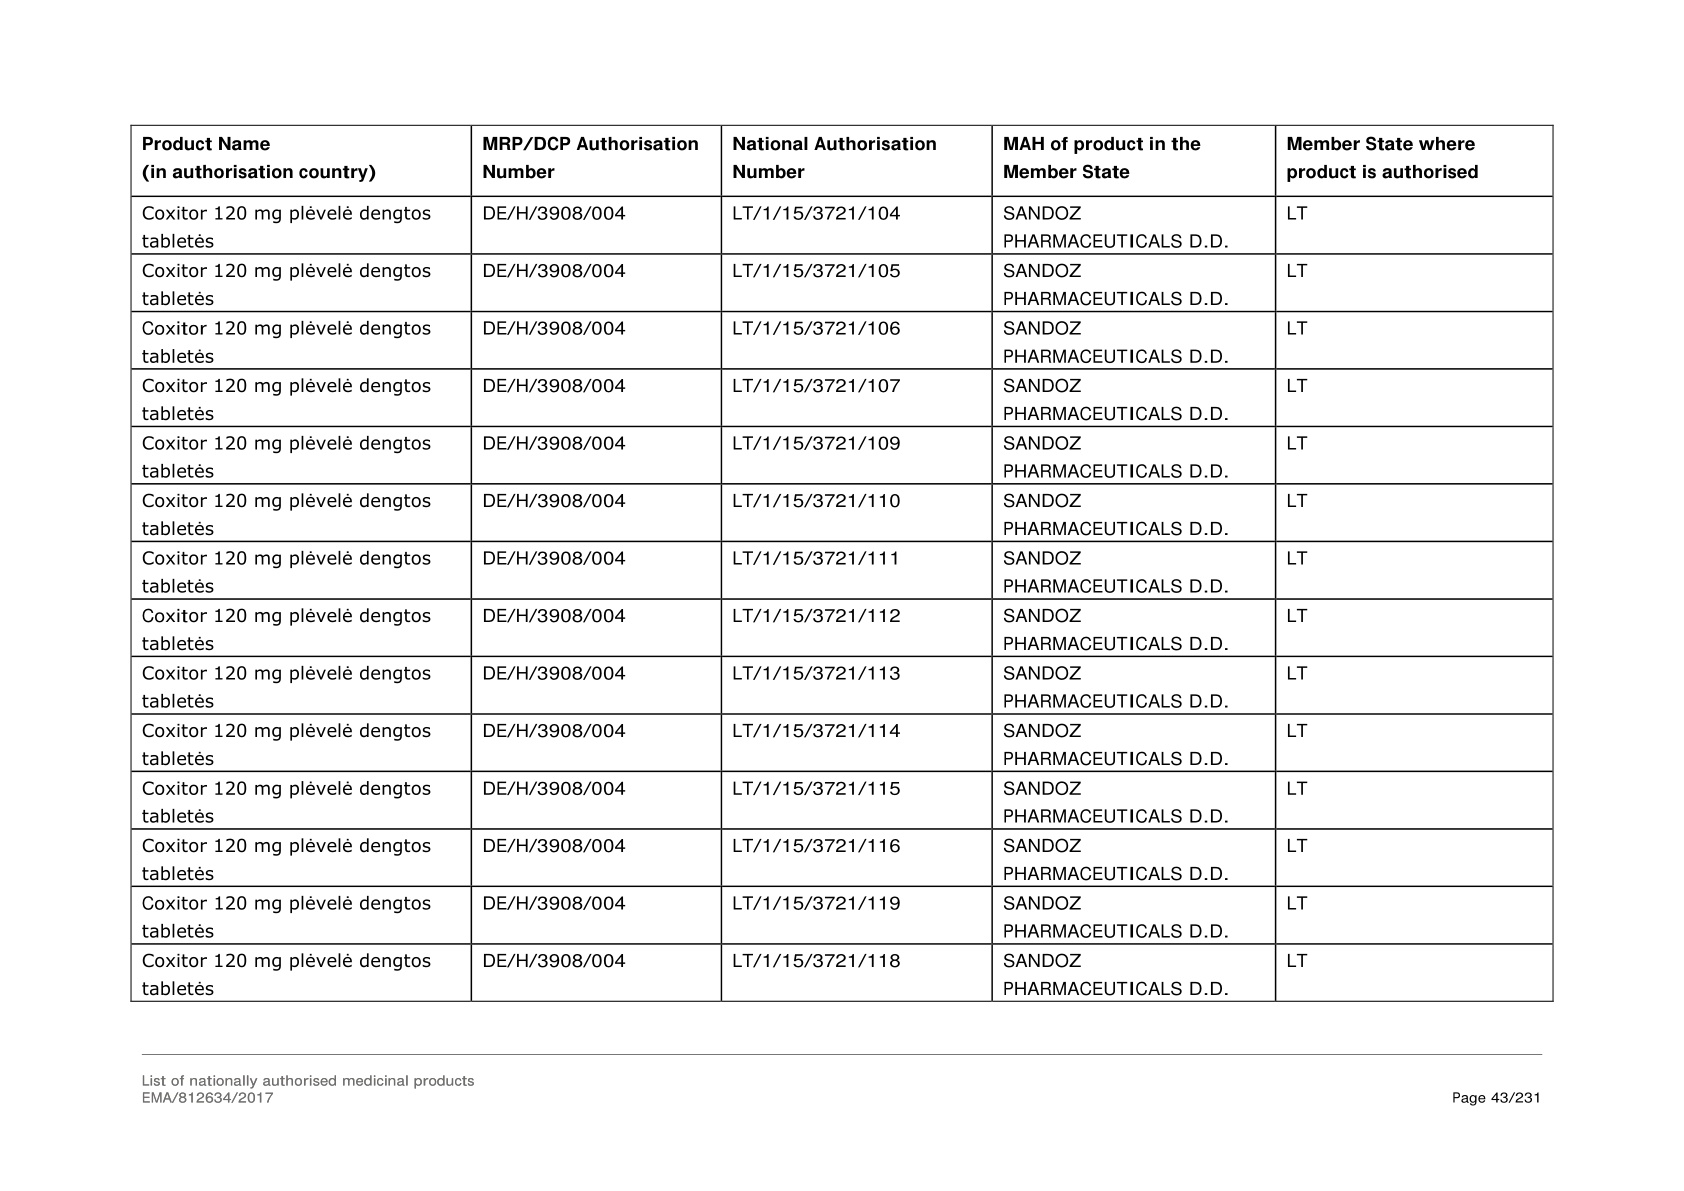full_lined: (130, 122, 1555, 1003)
